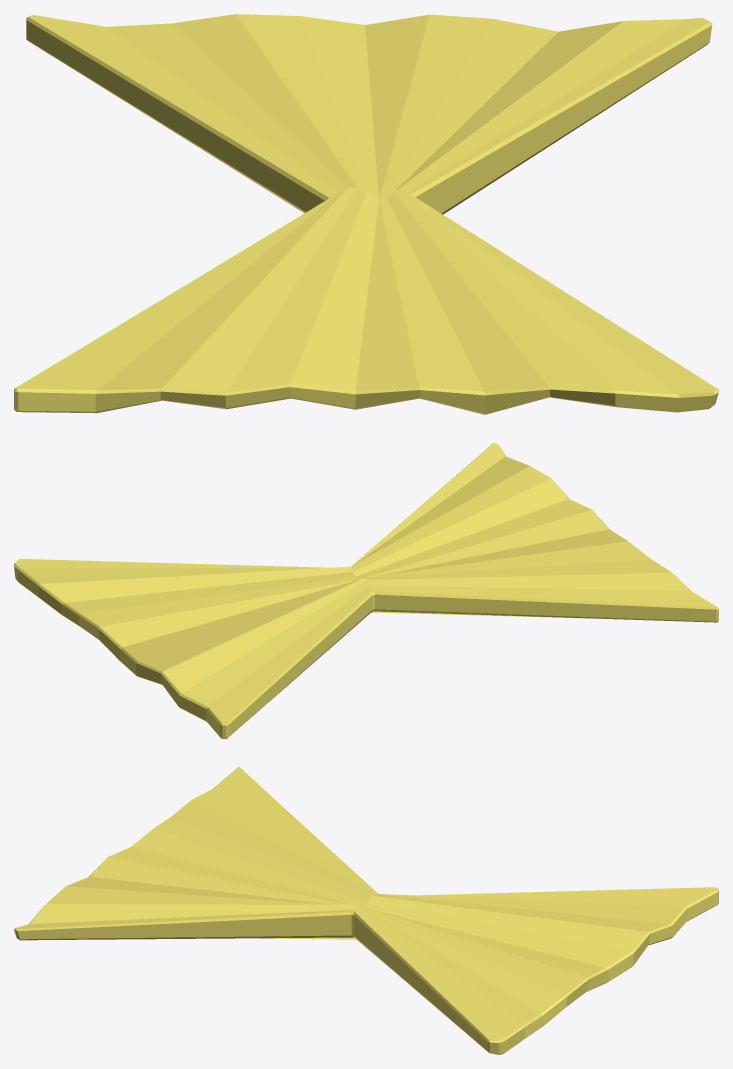
3 views of the same model, one above another, from view 1: azimuth 30°, elevation 25°; view 2: azimuth 150°, elevation 25°; view 3: azimuth 270°, elevation 25° (orthographic). The views are drawn at different scales.
Visible parts, largest first — view 1: Plane.004; view 2: Plane.004; view 3: Plane.004.
Part boxes in pixels (x1,y1,x2,y2): Plane.004: (14,14,718,414); Plane.004: (14,443,718,738); Plane.004: (14,767,718,1054).
Bounding box in the file's own units: 2.32 × 0.1365 × 2.5.
